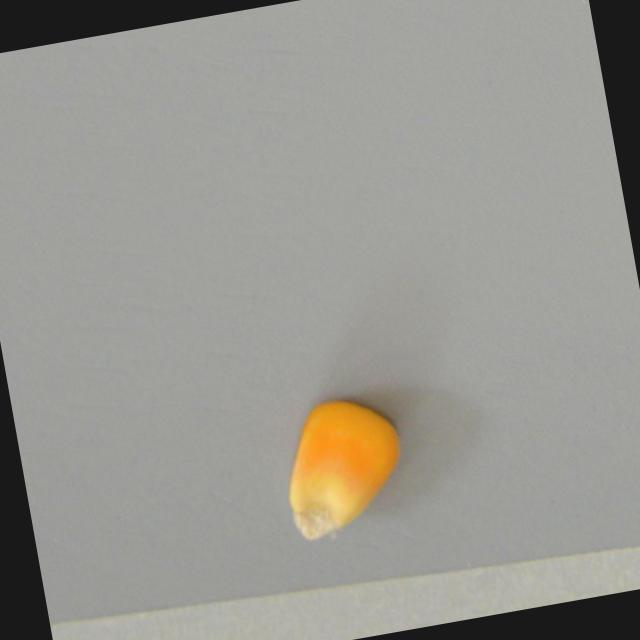entero: (267, 385, 425, 552)
